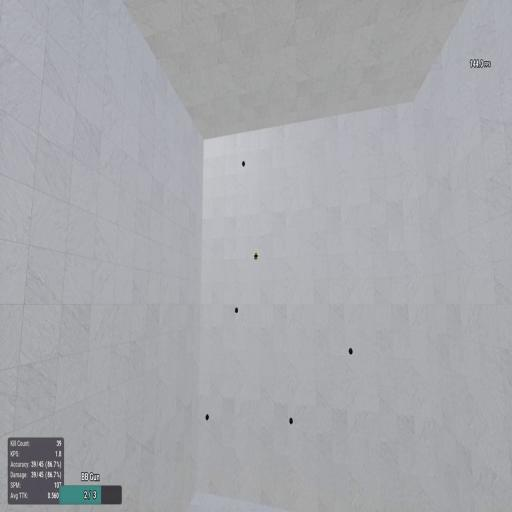Crosshair: (254, 251, 258, 260)
Target: (288, 417, 294, 425), (241, 160, 247, 168), (349, 345, 353, 356), (206, 413, 210, 422), (234, 307, 239, 313), (254, 254, 258, 260)
